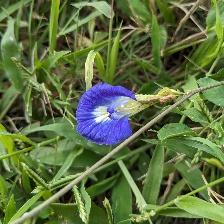shankupushpam: (77, 83, 181, 148)
